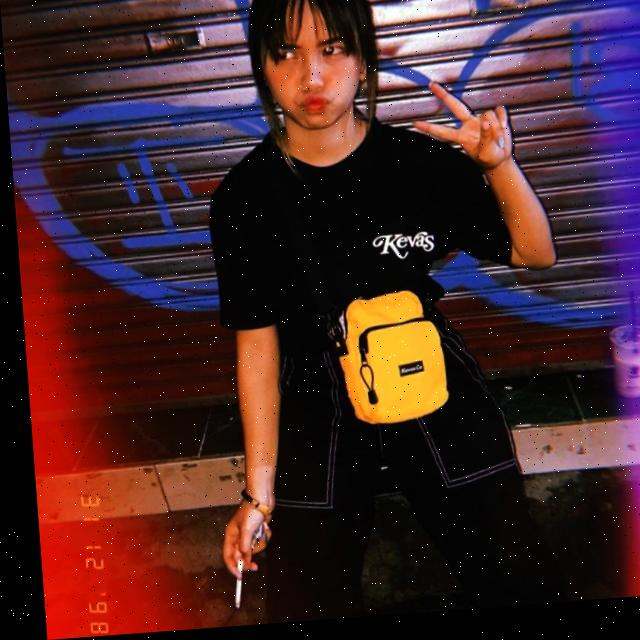cigarette: (222, 561, 238, 612)
